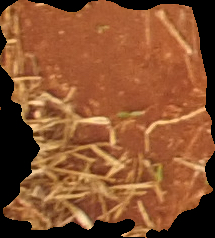soil: (2, 3, 210, 236)
